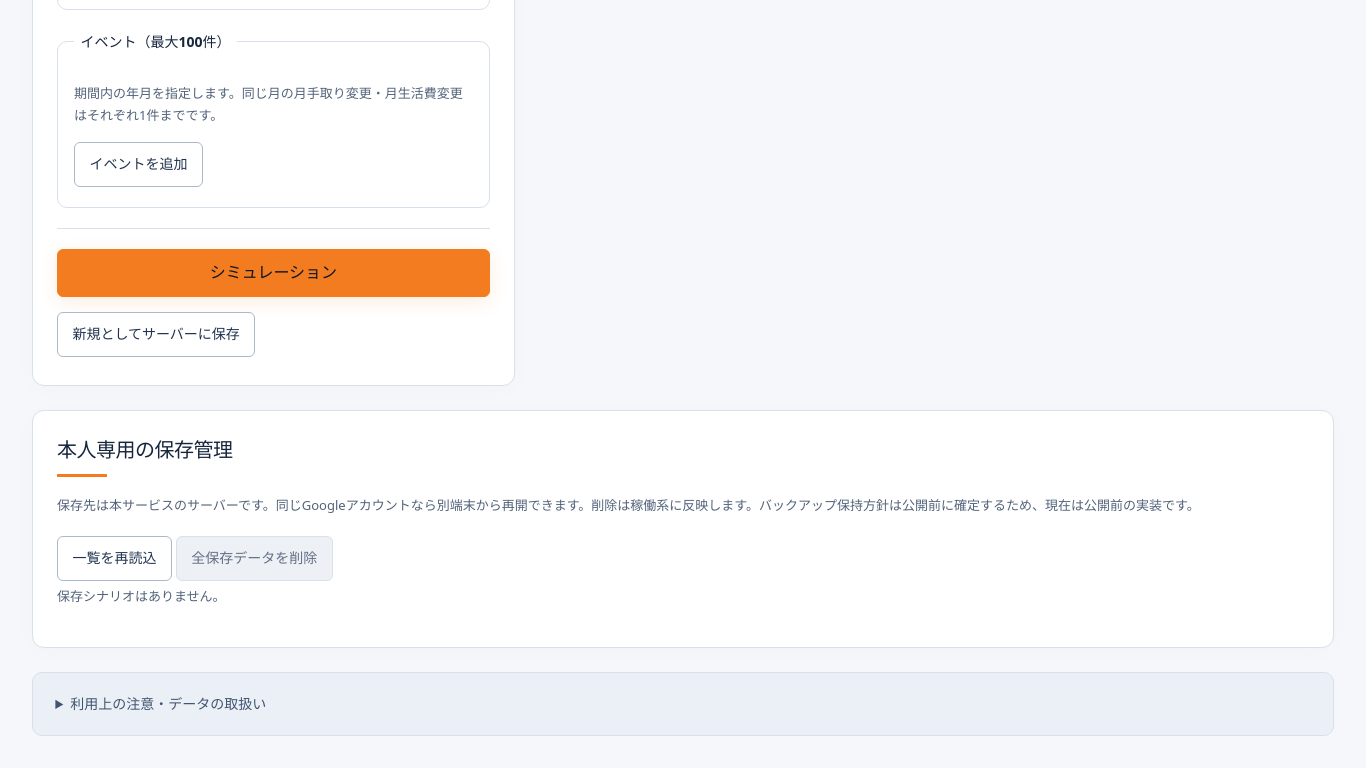
Scenario: private simulator › clears private state when server session expires
(page scrolled)
Check: the button "シミュレーション" is enabled, box [57,249,490,297]
Click the button "一覧を再読込": (114, 558) [57,536,172,581]
(page scrolled)
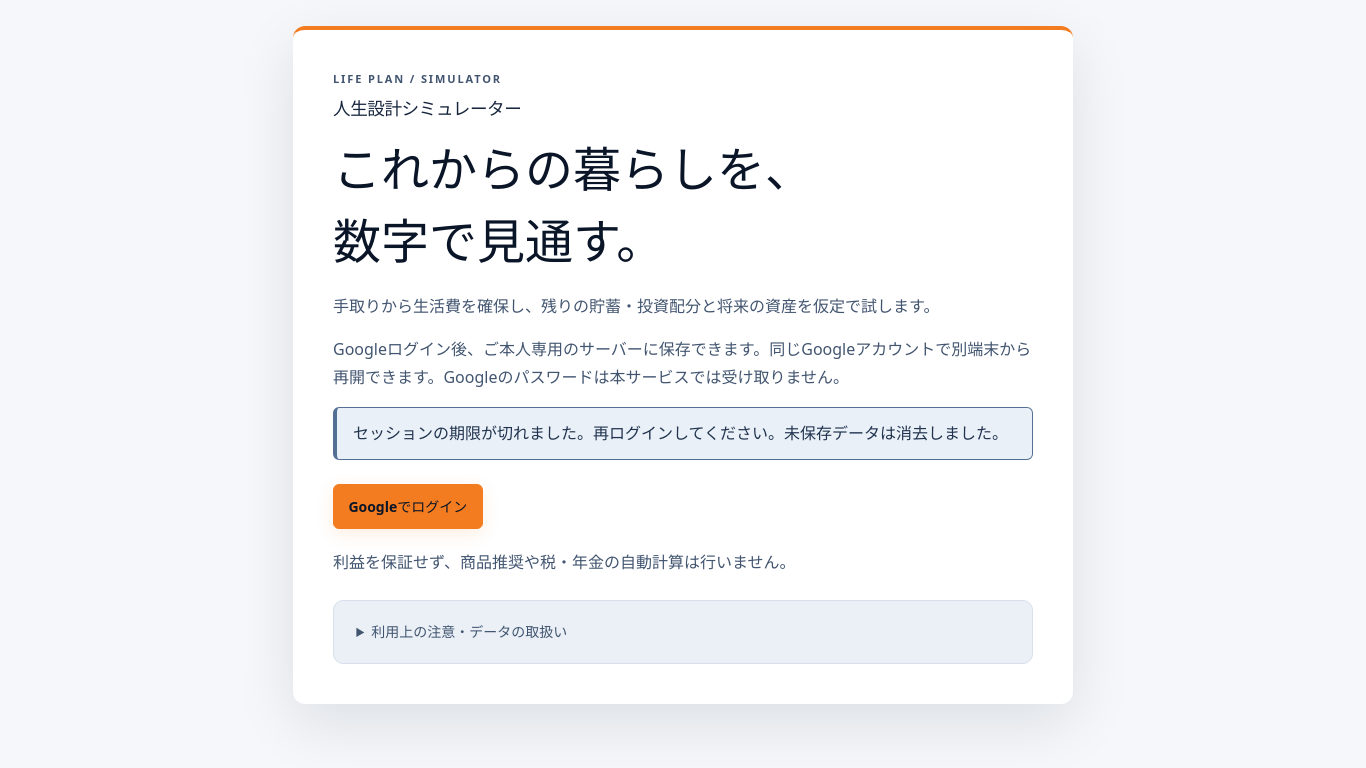
Check: the link "Googleでログイン" is shown, box [333,484,483,529]
